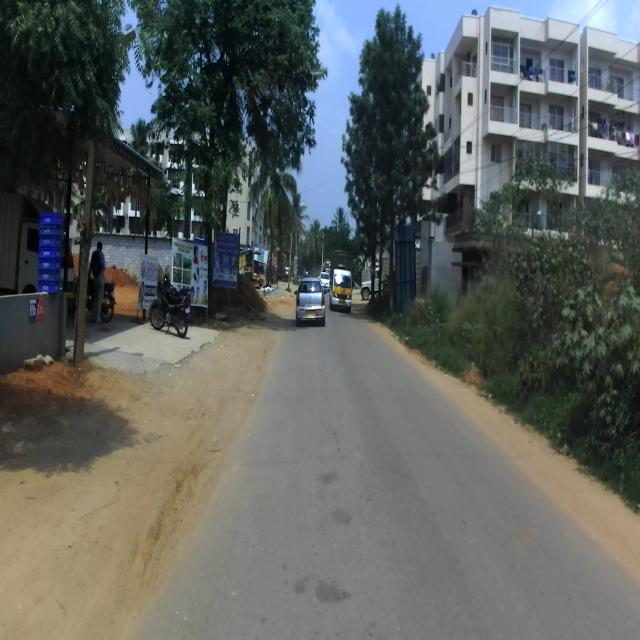motorcycle ahead at: (149, 273, 197, 351)
